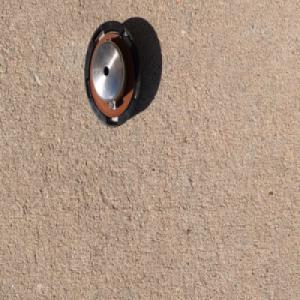FuelCap: (82, 17, 143, 130)
